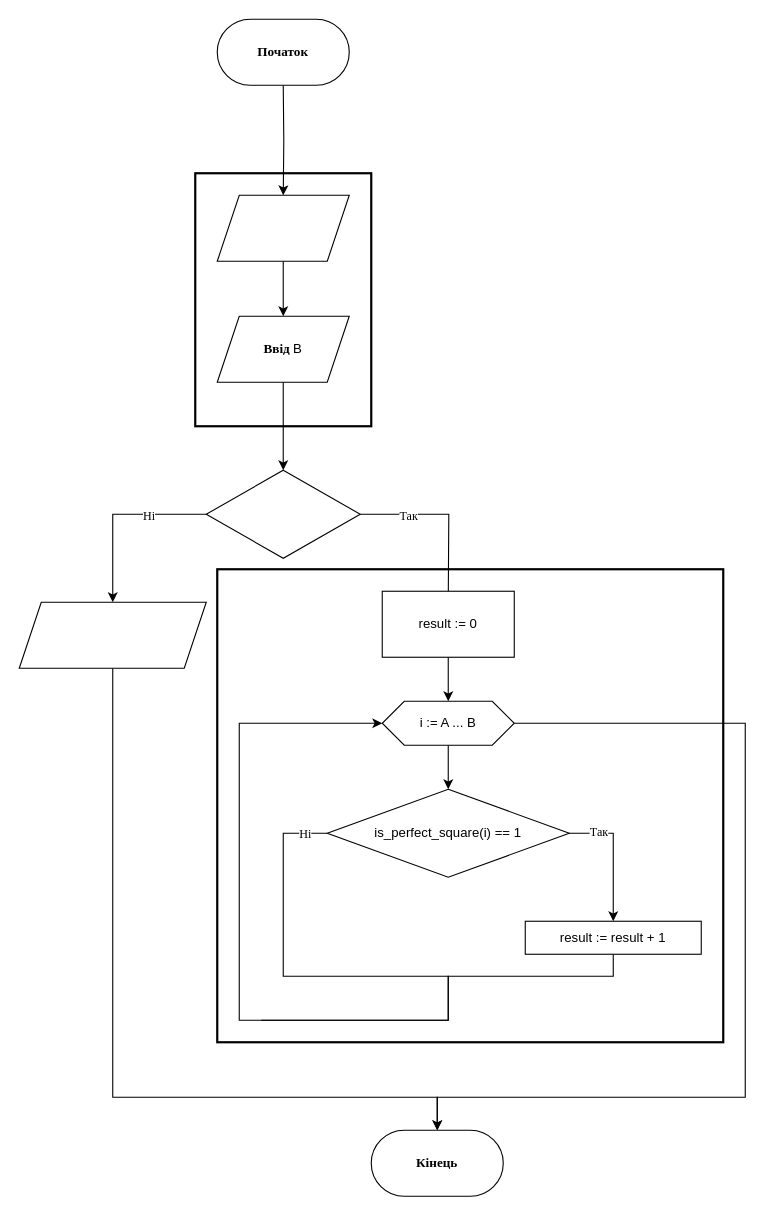
This 773x1216 diagram has some shape labels left out. The centre of each missing label's shape, as x and y in pixels:
"A <= B" belongs at point 282,513.
"Ввід A" belongs at point 282,227.
"Вивід «ПОМИЛКА: A повинно бути меншим­рівним B»" belongs at point 112,634.
